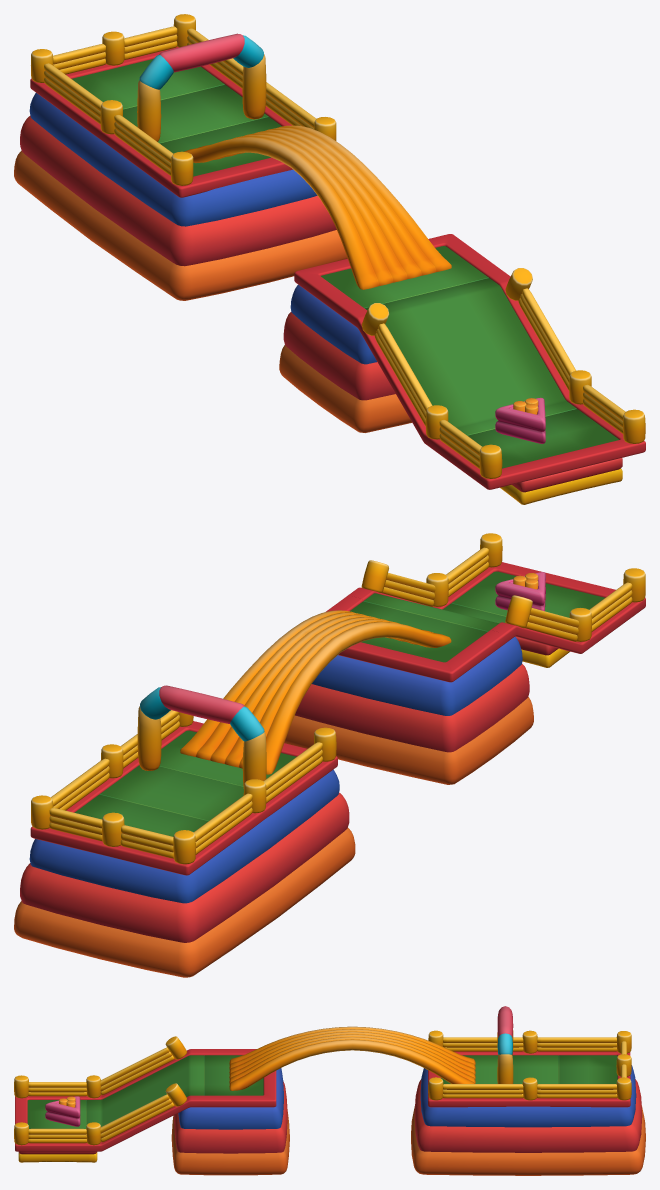
3 views of the same model, one above another, from view 1: azimuth 30°, elevation 25°; view 2: azimuth 150°, elevation 25°; view 3: azimuth 270°, elevation 25° (orthographic). The views are drawn at different scales.
Parts seen in each view (by area): view 1: Part1; view 2: Part1; view 3: Part1.
Boxes of the visible parts, bbox=[...] form: Part1: bbox=[14, 14, 645, 504]; Part1: bbox=[14, 533, 645, 977]; Part1: bbox=[14, 1006, 645, 1175].
Size of the model in its own units: 15.04 by 14.47 by 64.27.
Materials: 1 (1 with a texture image).
